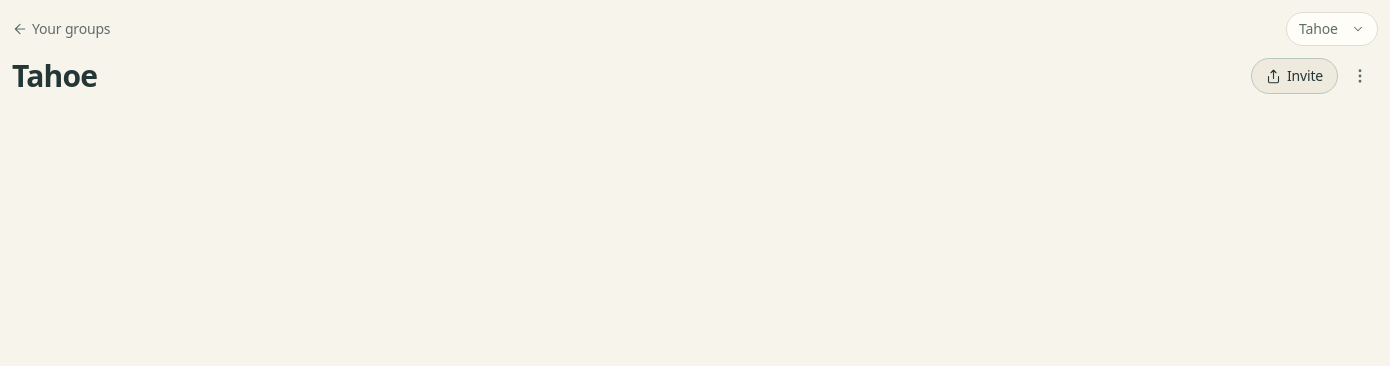
Test: what a member is offered › shows an owner all of them
Click the button named "Group options" at [1360, 76], box [1342,58,1378,94]
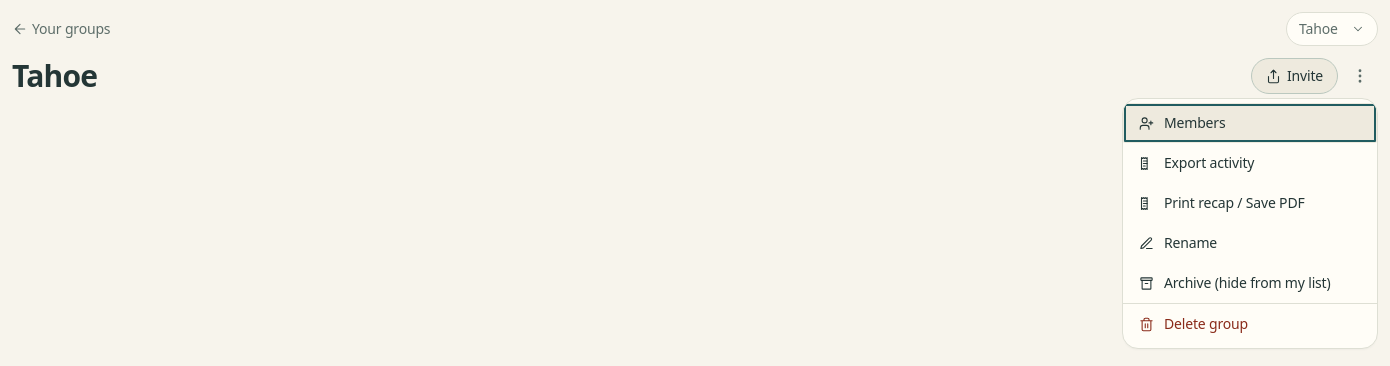
Expected: the menu item "Rename" is shown, [1123,223,1377,263]
Expected: the menu item "Delete group" is shown, [1123,303,1377,344]
